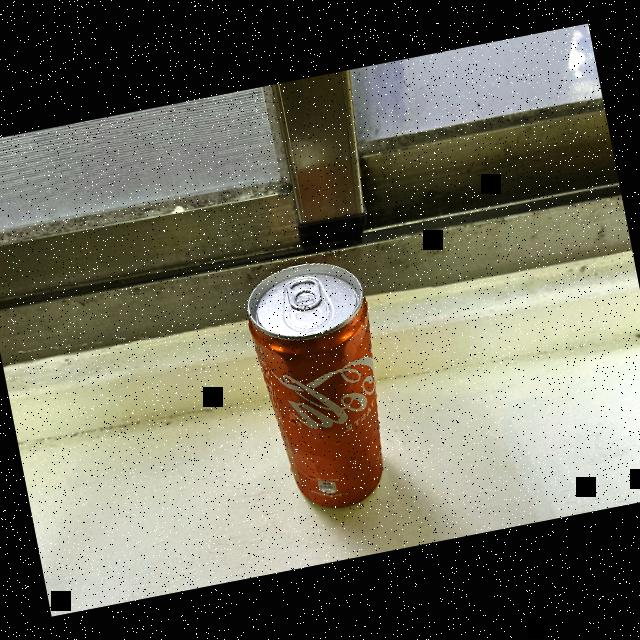can: (236, 250, 409, 516)
